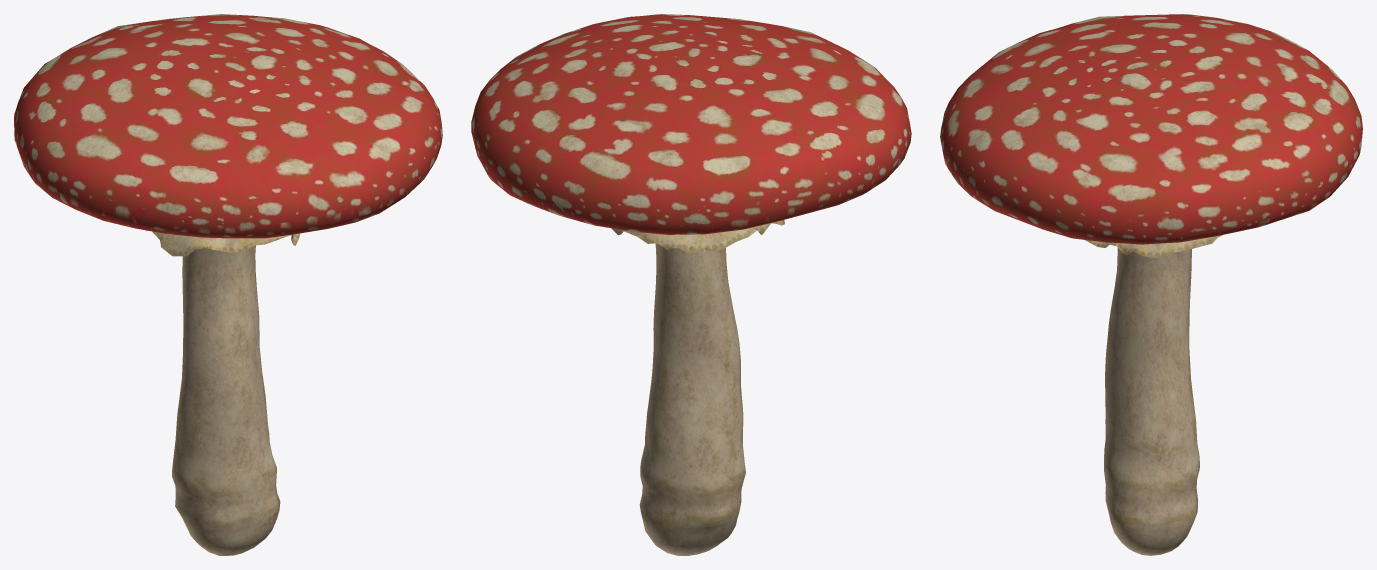
The model's file is mushroom_agaric.glb.
3 views of the same model, side by side, from view 1: azimuth 30°, elevation 25°; view 2: azimuth 150°, elevation 25°; view 3: azimuth 270°, elevation 25° (orthographic). The views are drawn at different scales.
Visible parts, largest first — view 1: hood_low_default_0, stem_low_default_0, annulus_low_default_0; view 2: hood_low_default_0, stem_low_default_0, annulus_low_default_0; view 3: hood_low_default_0, stem_low_default_0, annulus_low_default_0.
Part boxes in pixels (x1,y1,x2,y2): hood_low_default_0: (14, 14, 442, 238); stem_low_default_0: (172, 245, 280, 555); annulus_low_default_0: (146, 230, 300, 256); hood_low_default_0: (471, 14, 911, 234); stem_low_default_0: (639, 243, 745, 555); annulus_low_default_0: (611, 220, 784, 253); hood_low_default_0: (940, 14, 1362, 244); stem_low_default_0: (1104, 248, 1199, 555); annulus_low_default_0: (1085, 235, 1222, 257).
Bounding box in the file's own units: 103 × 127 × 101.
Materials: 1 (1 with a texture image).
